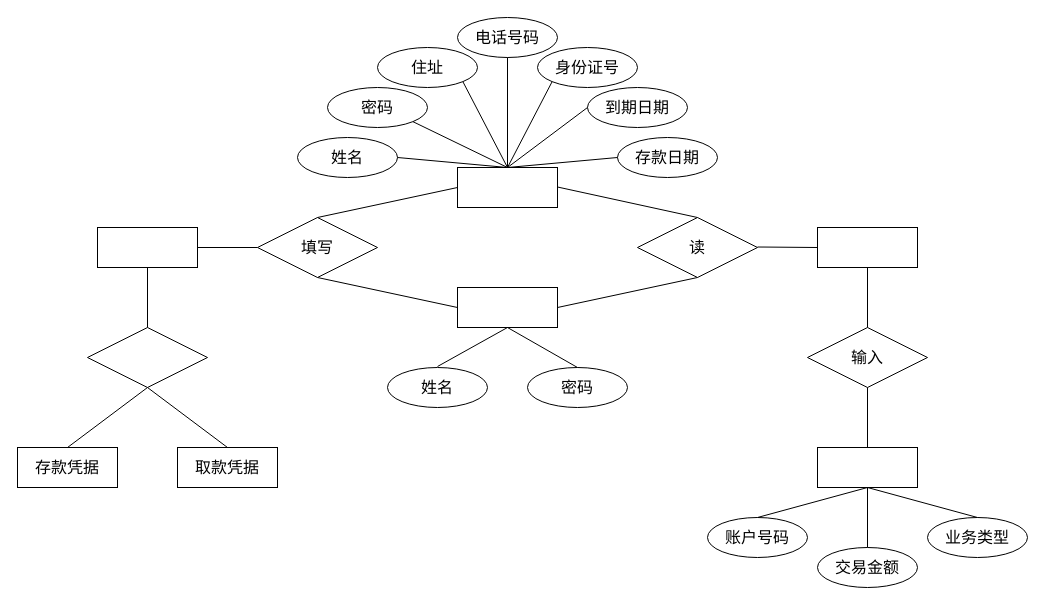
The diagram is 1045 pixels wide and 605 high, and some of its shapes have lost their labels. The shapes that lost their labels are listed below. From the top down, each one's box as (x1, y1, x2, y2) in pixels, then its label:
(456, 166, 558, 208): 存款单
(96, 226, 198, 268): 储户
(816, 226, 918, 268): 业务员
(456, 286, 558, 328): 取款单
(86, 326, 208, 388): 索取
(816, 446, 918, 488): 业务信息
